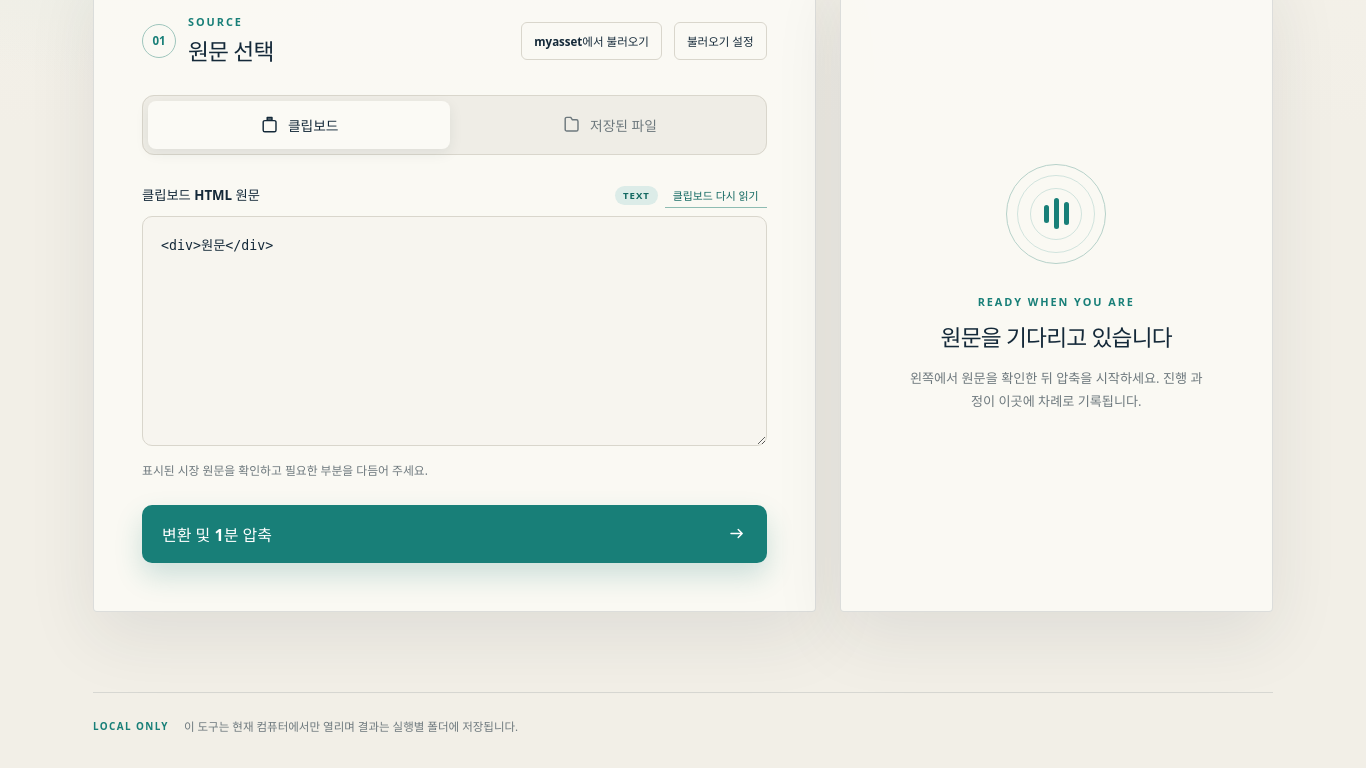
it: App › 서버 재시작으로 토큰이 만료되면 세션을 갱신하여 작업 기록을 복구한다
(page scrolled)
Click the button "변환 및 1분 압축": (217, 535) [142,505,766,563]
(page scrolled)
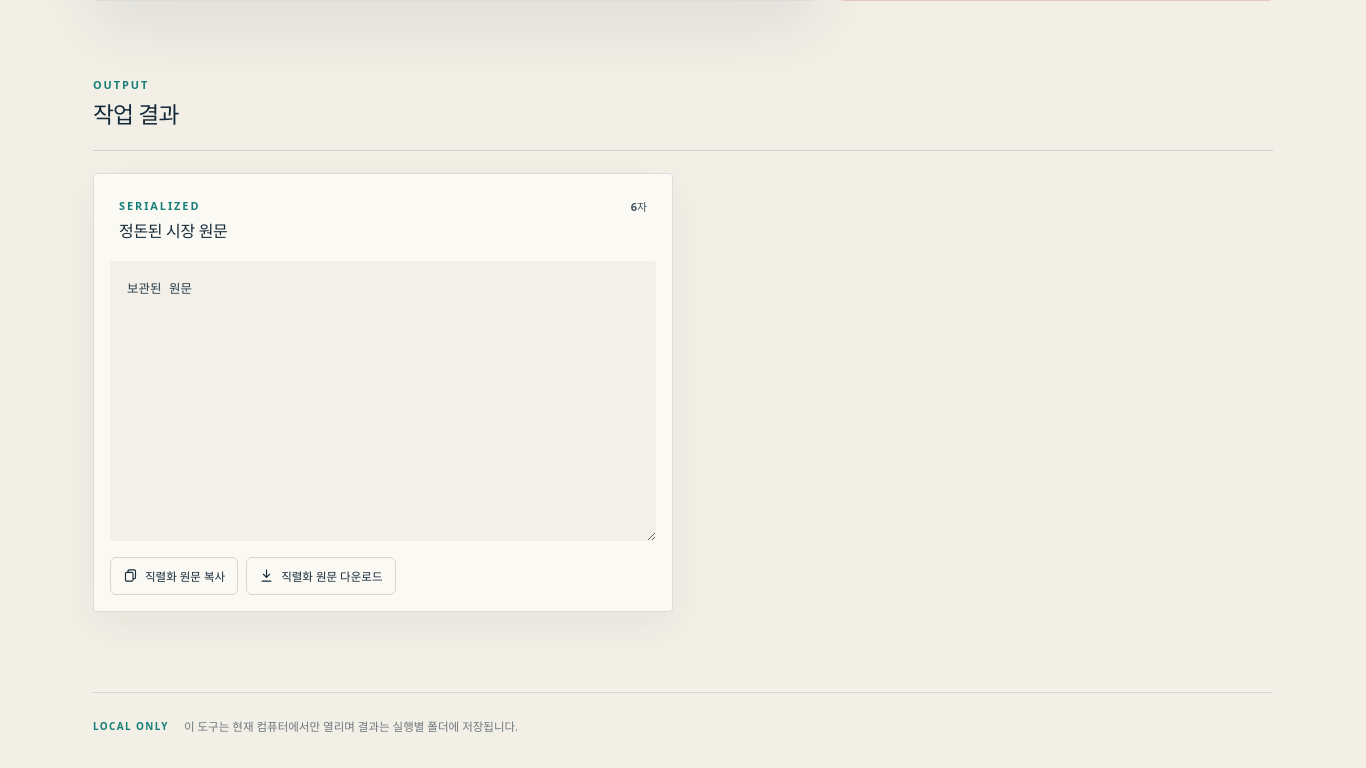
Now the text box named "직렬화 원문" holds "보관된 원문", box [110,261,656,541]
